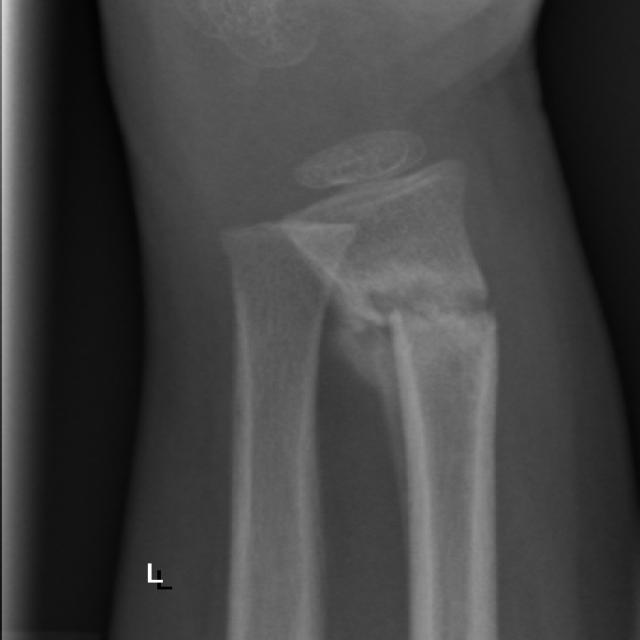radius fracture: (371, 158, 525, 432)
